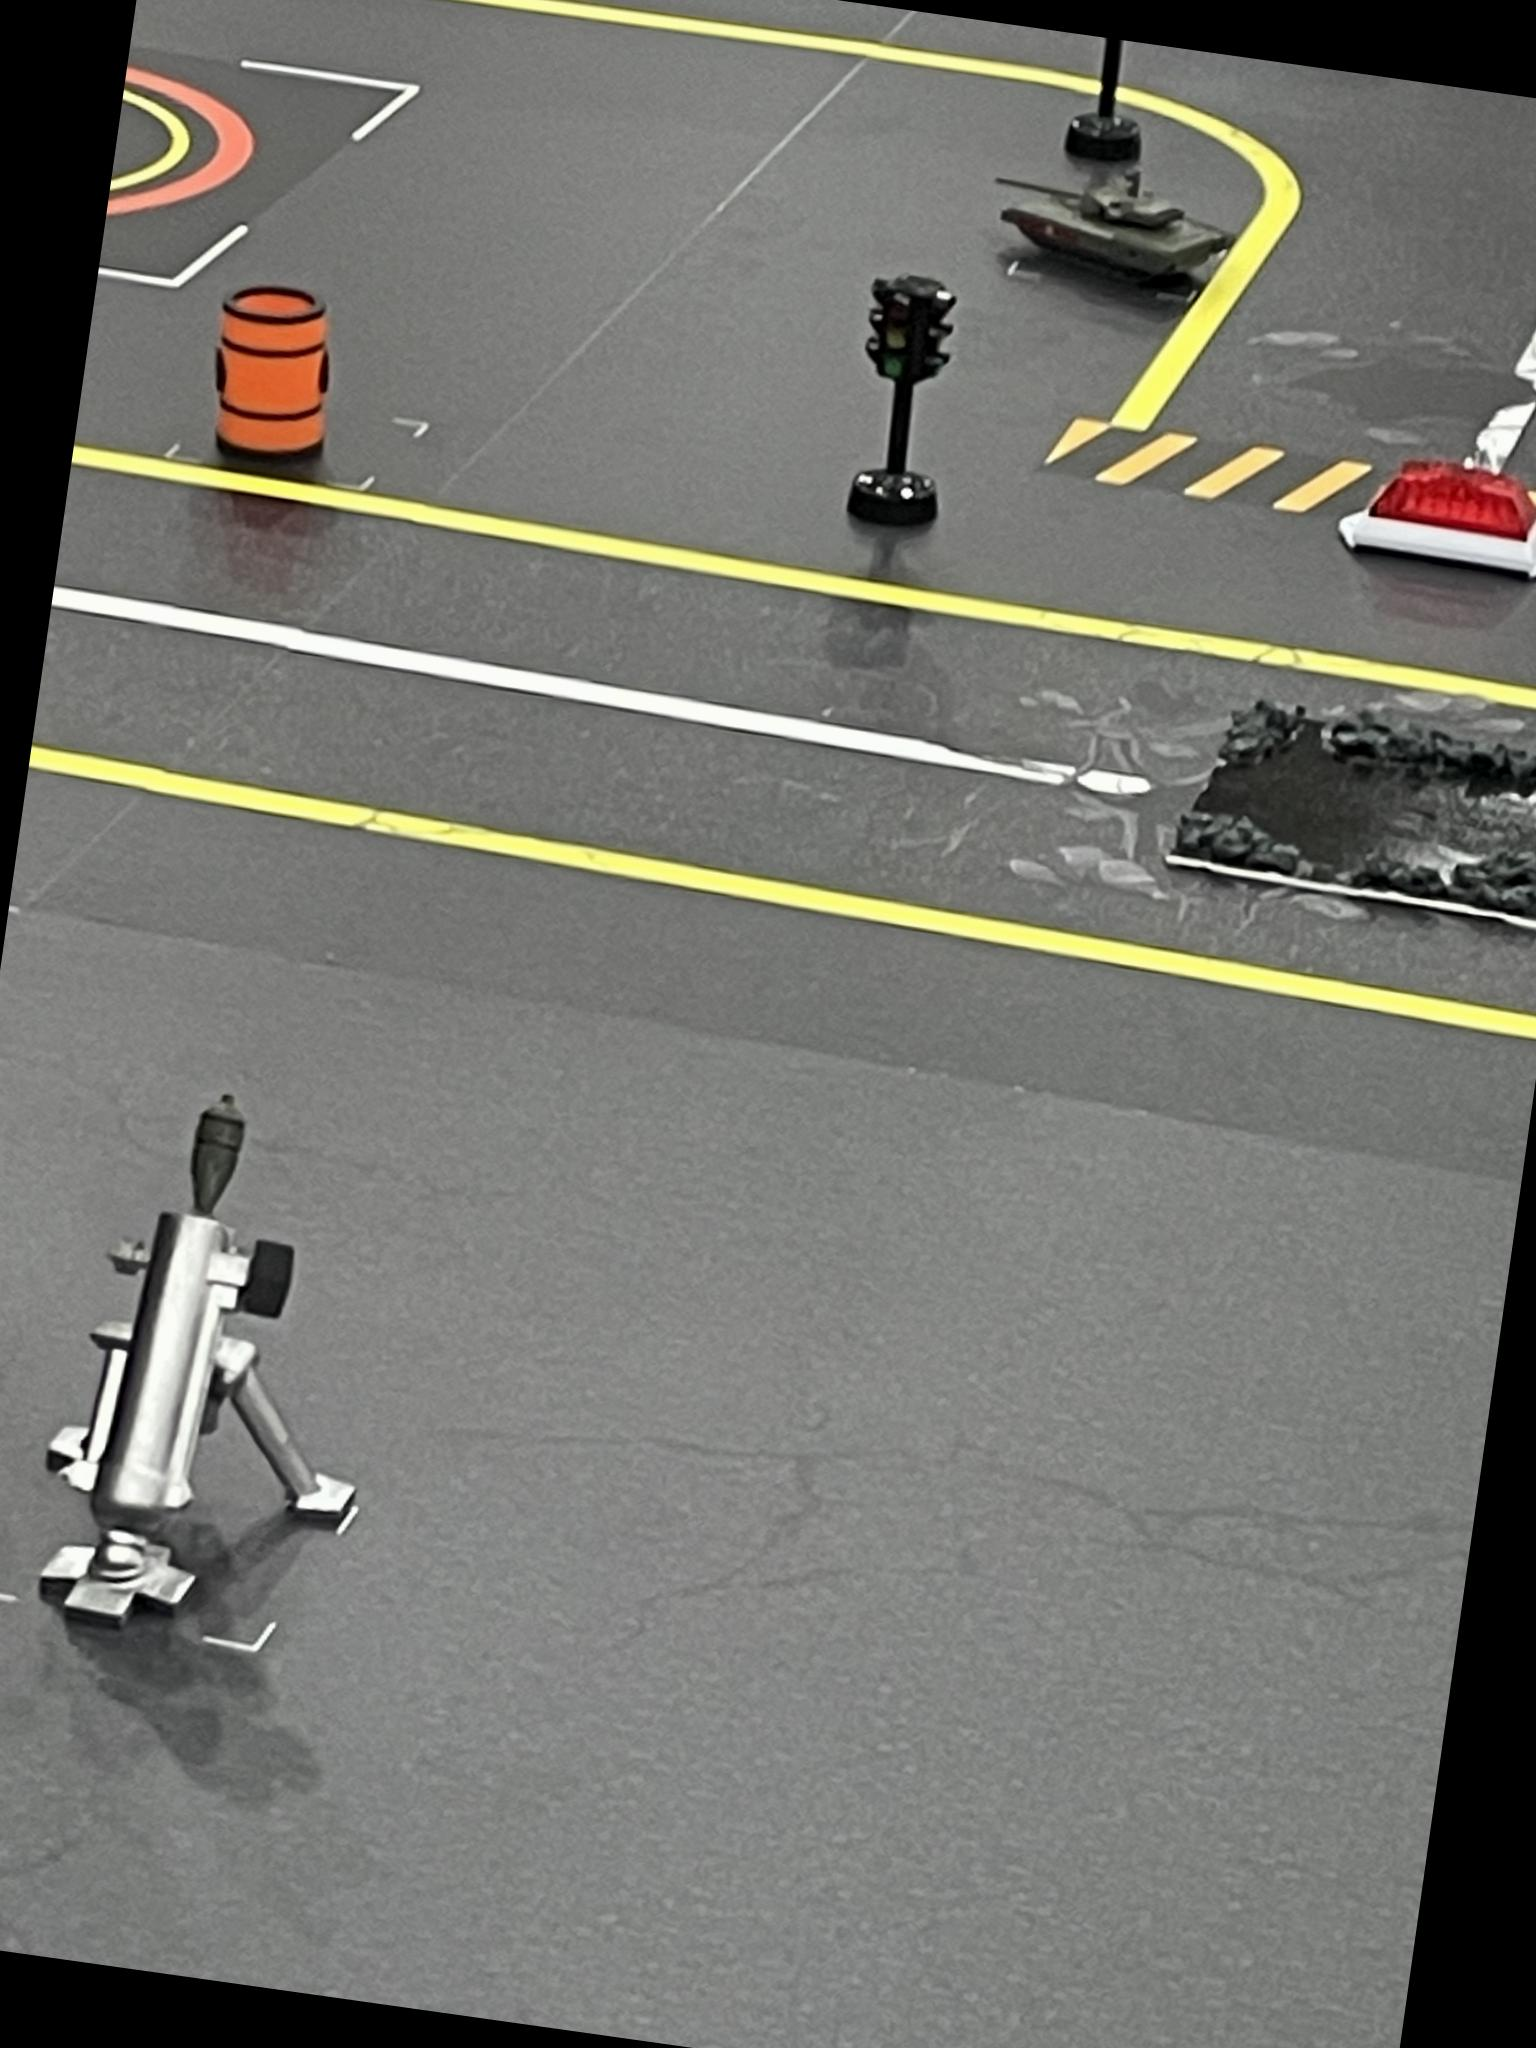Hazmat: (197, 264, 363, 481)
Mortar: (13, 1064, 421, 1669)
Tank: (981, 152, 1249, 324)
